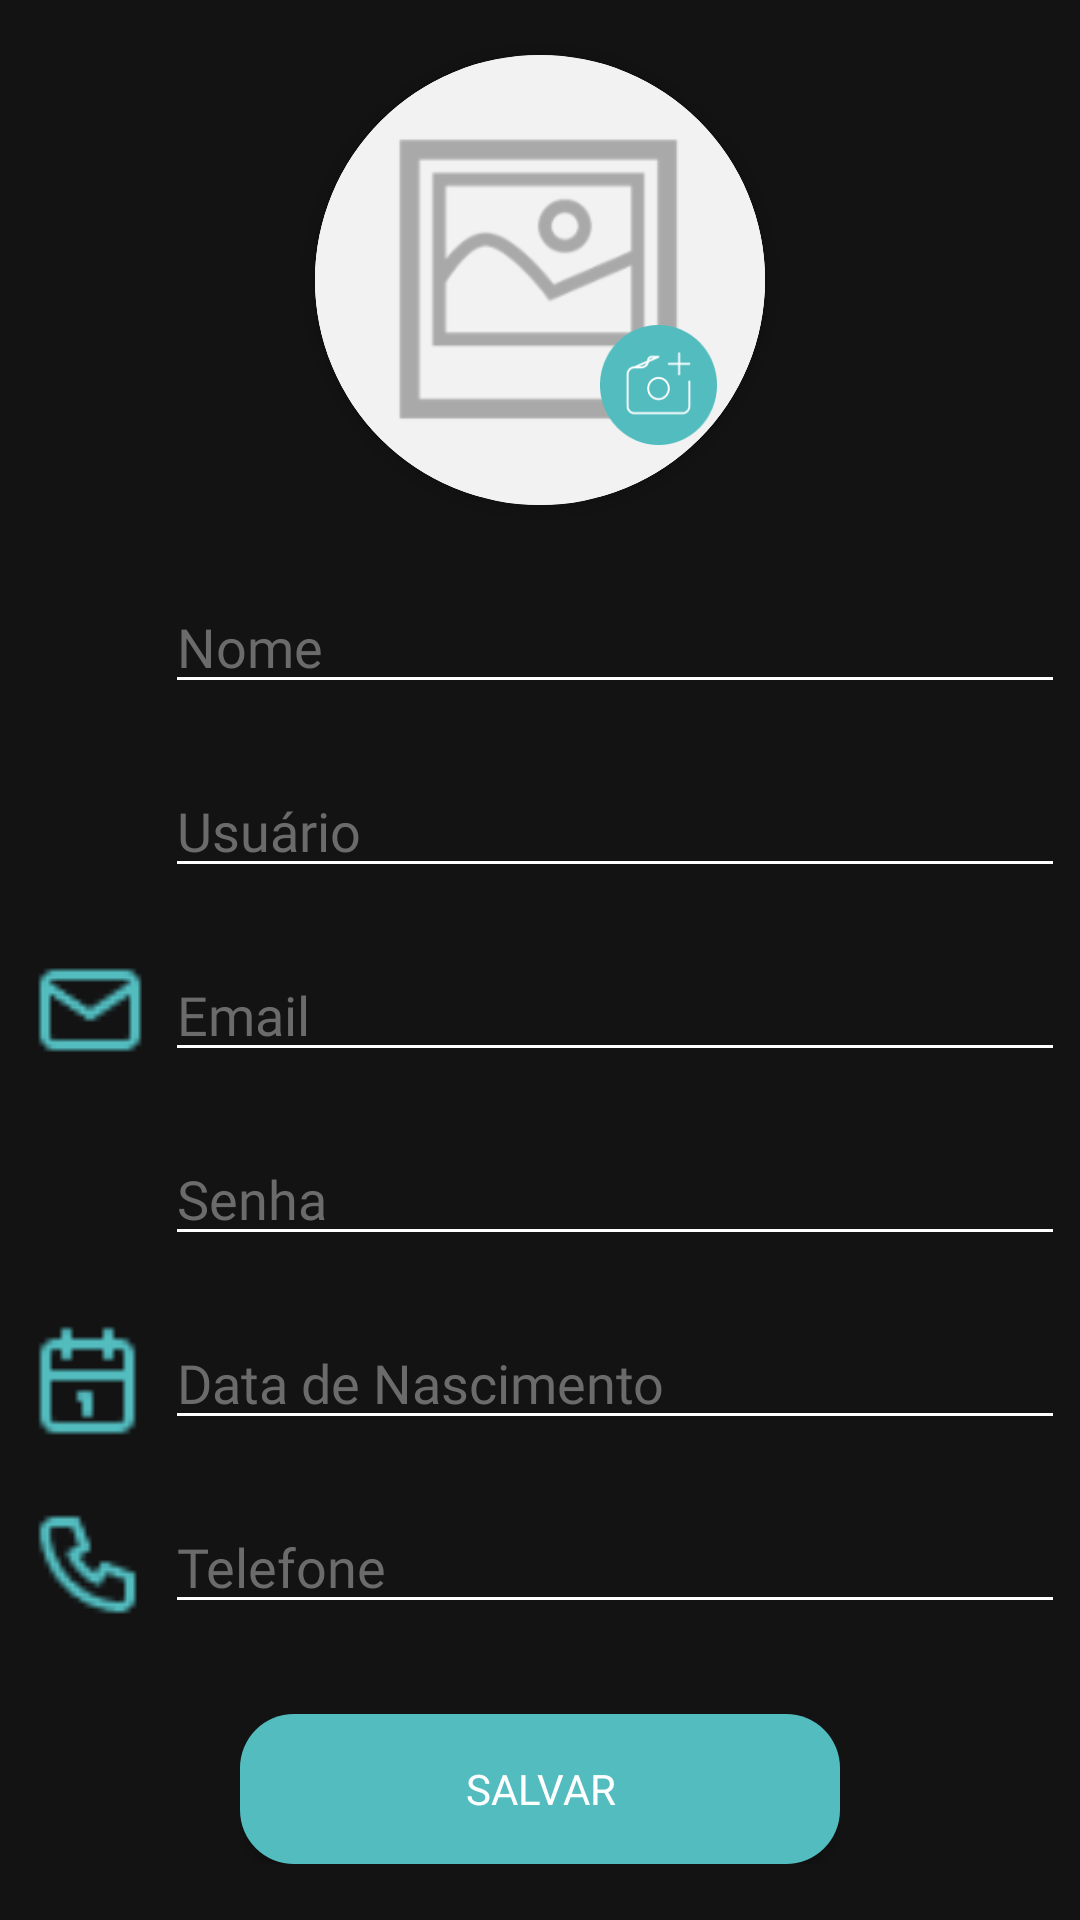

Named icons in this screenshot (1080px x 1920px) and their bounding boxes, detection(x1, y1, x2, y2):
calendar: detection(39, 1327, 136, 1435)
phone: detection(38, 1515, 137, 1614)
